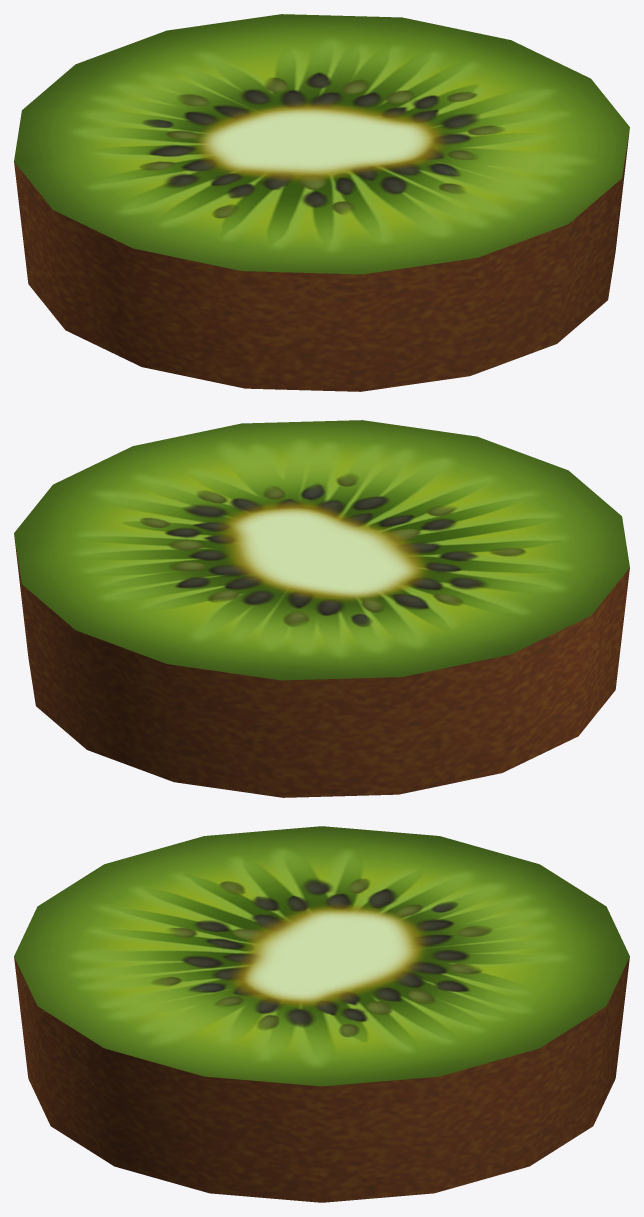
The model's file is Kiwi_Slice.fbx.
The picture shows the model from 3 angles, top to bottom: view 1: azimuth 30°, elevation 25°; view 2: azimuth 150°, elevation 25°; view 3: azimuth 270°, elevation 25°; orthographic projection.
Visible parts, largest first — view 1: Kiwi_Slice; view 2: Kiwi_Slice; view 3: Kiwi_Slice.
Boxes of the visible parts, box(x1,y1,x2,y2) form: Kiwi_Slice: box(14, 14, 629, 391); Kiwi_Slice: box(14, 420, 629, 797); Kiwi_Slice: box(14, 826, 629, 1202).
Size of the model in its own units: 26.56 by 5.82 by 26.56.
